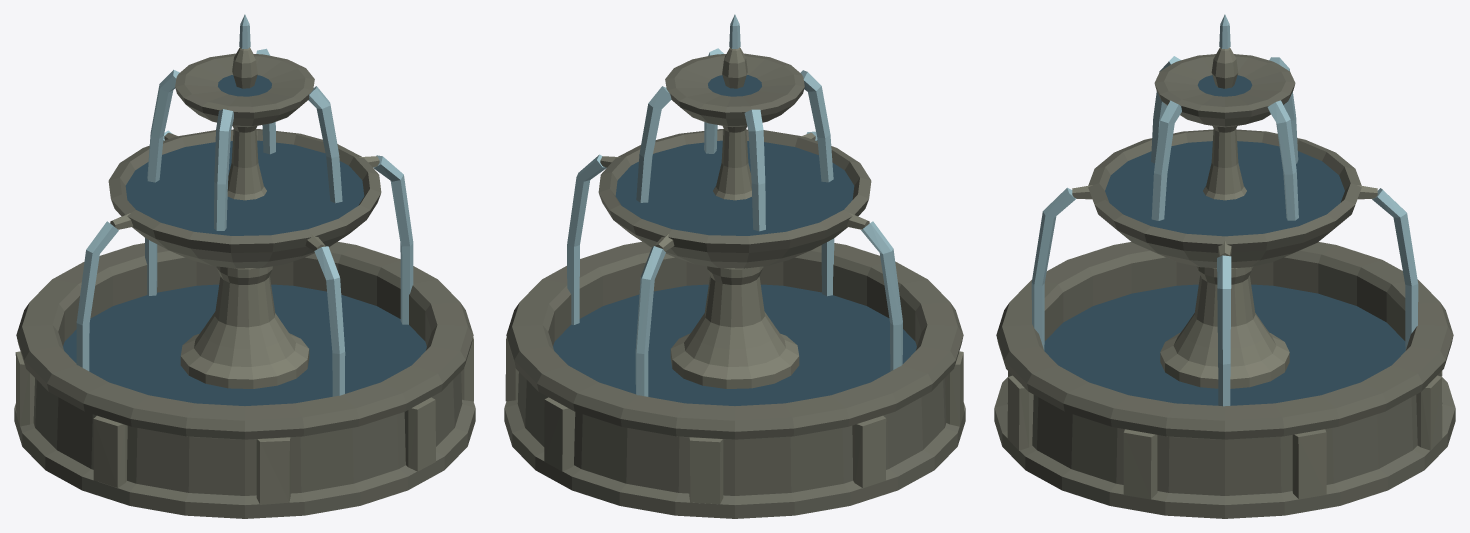
Rendered from fountain.glb.
3 views of the same model, side by side, from view 1: azimuth 30°, elevation 25°; view 2: azimuth 150°, elevation 25°; view 3: azimuth 270°, elevation 25° (orthographic).
Parts seen in each view (by area): view 1: Fountain; view 2: Fountain; view 3: Fountain.
Boxes of the visible parts, x1,y1,x2,y2 form: Fountain: (14, 14, 475, 518); Fountain: (504, 14, 965, 518); Fountain: (994, 14, 1455, 518).
Bounding box in the file's own units: 2.42 × 2.36 × 2.42.
